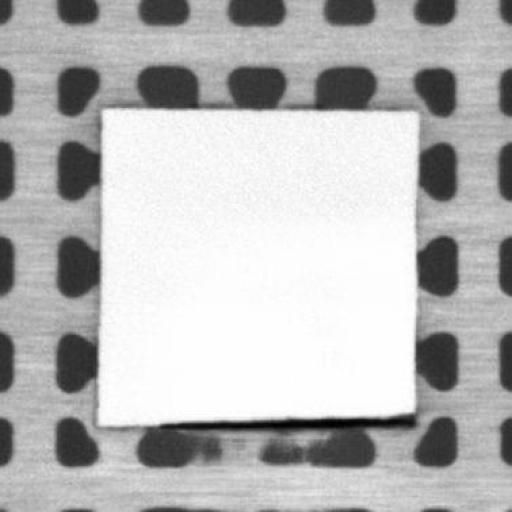DIE_BROKEN: (160, 410, 417, 428)
